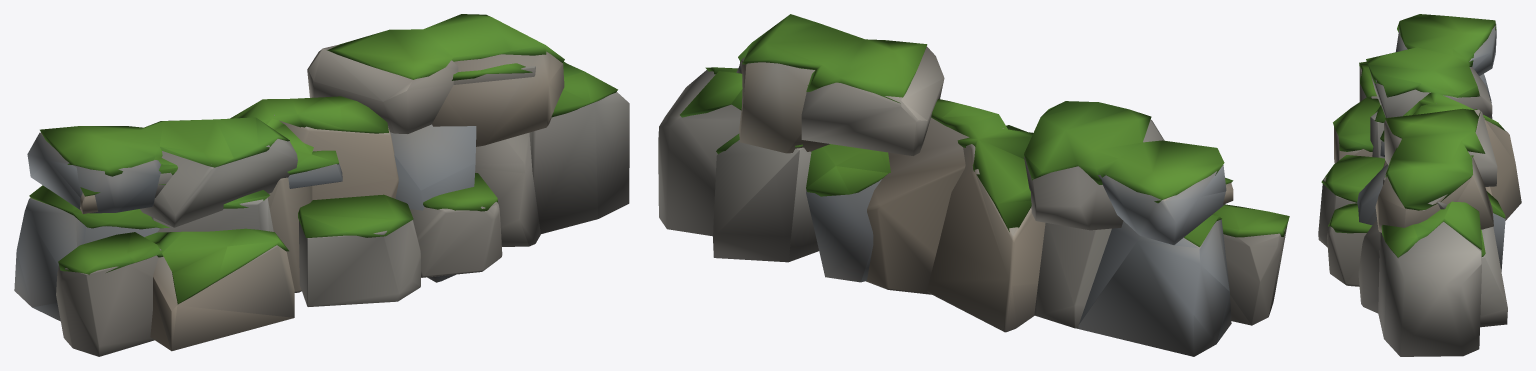
The model's file is glade_bluff_low_lod2.glb.
The picture shows the model from 3 angles, left to right: view 1: azimuth 30°, elevation 25°; view 2: azimuth 150°, elevation 25°; view 3: azimuth 270°, elevation 25°; orthographic projection. The views are drawn at different scales.
Visible parts, largest first — view 1: glade_bluff_low.001, moss.001; view 2: glade_bluff_low.001, moss.001; view 3: glade_bluff_low.001, moss.001.
Part boxes in pixels (bbox=[...]): glade_bluff_low.001: bbox=[14, 44, 629, 356]; moss.001: bbox=[29, 14, 617, 304]; glade_bluff_low.001: bbox=[658, 47, 1287, 356]; moss.001: bbox=[680, 14, 1289, 246]; glade_bluff_low.001: bbox=[1318, 23, 1521, 356]; moss.001: bbox=[1321, 14, 1505, 257].
Bounding box in the file's own units: 43.1 × 13.59 × 16.25.
